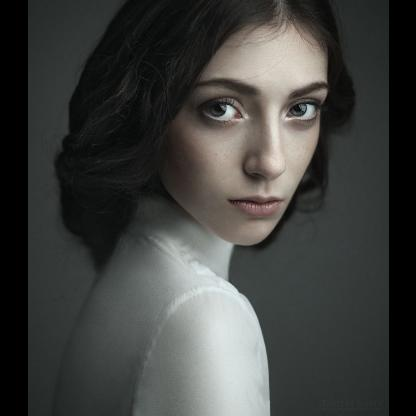Female: (154, 20, 328, 245)
